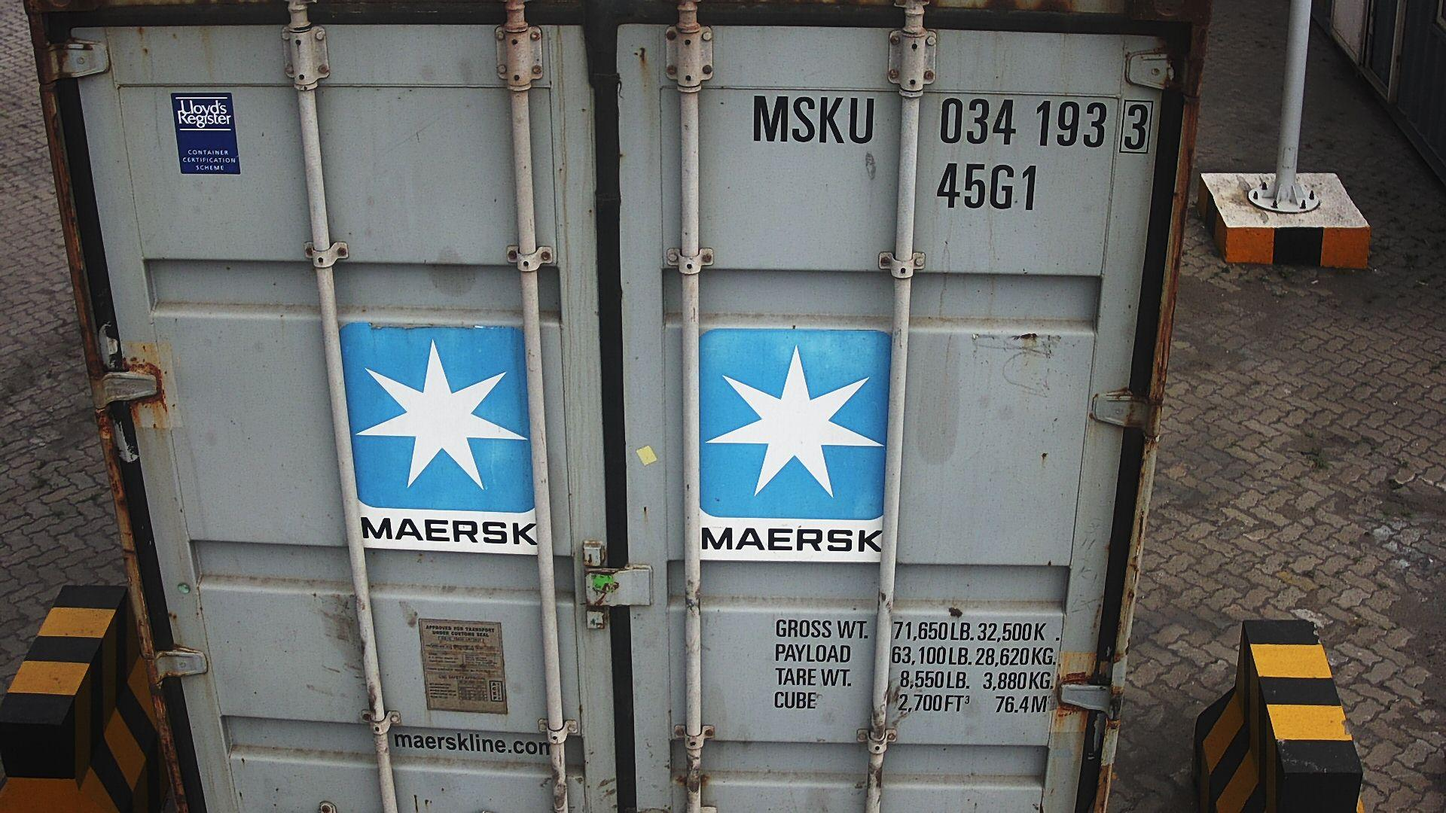container-numbers: (749, 90, 1162, 155), (933, 159, 1044, 214)
